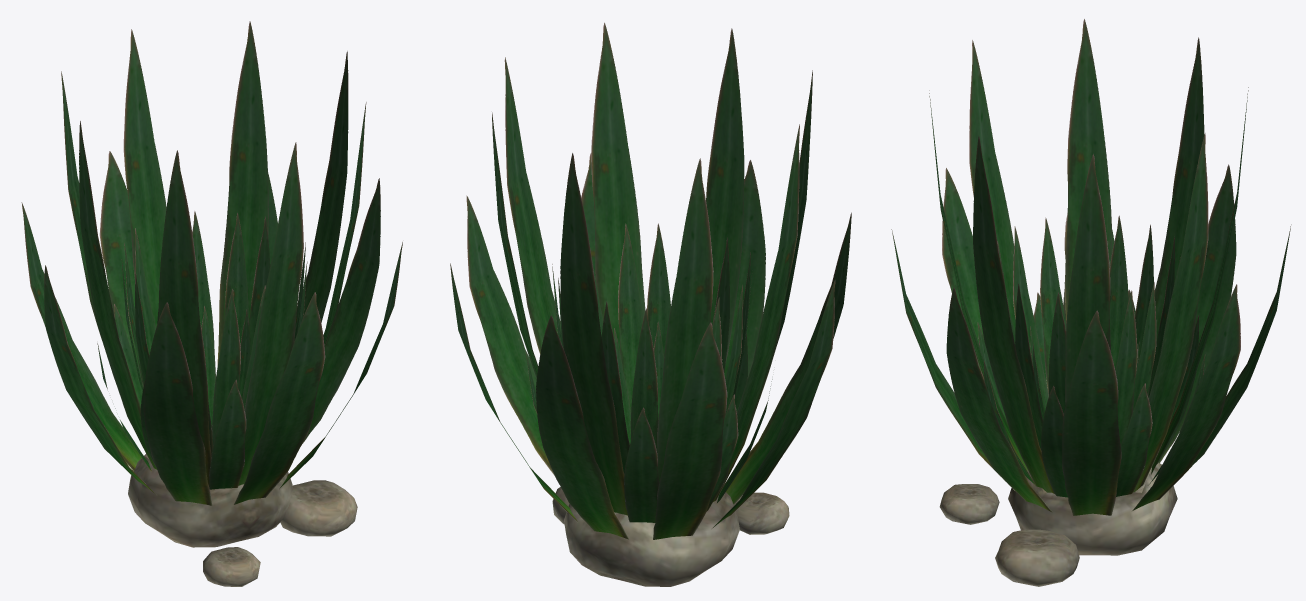
The model's file is plant-03.fbx.
The picture shows the model from 3 angles, left to right: view 1: azimuth 30°, elevation 25°; view 2: azimuth 150°, elevation 25°; view 3: azimuth 270°, elevation 25°; orthographic projection. The views are drawn at different scales.
Parts seen in each view (by area): view 1: Plane.005_Plane.000; view 2: Plane.005_Plane.000; view 3: Plane.005_Plane.000.
Part boxes in pixels (x1,y1,x2,y2): Plane.005_Plane.000: (21, 21, 402, 586); Plane.005_Plane.000: (450, 22, 851, 586); Plane.005_Plane.000: (891, 19, 1291, 586).
Bounding box in the file's own units: 1.12 × 1.4 × 1.12.
